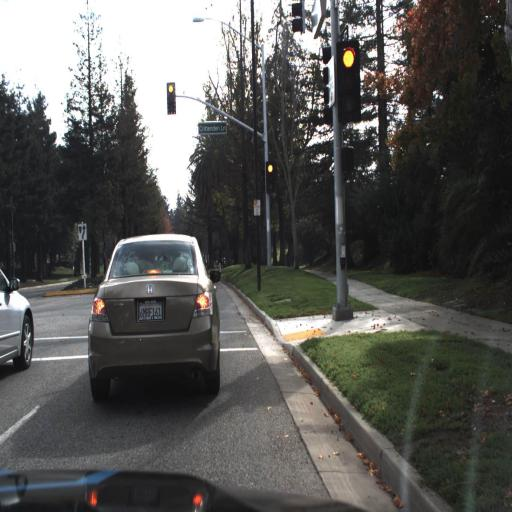car: (89, 230, 219, 404), (0, 253, 39, 374)
trafficLight-Red: (334, 36, 362, 124), (264, 160, 276, 196), (166, 81, 177, 115)
